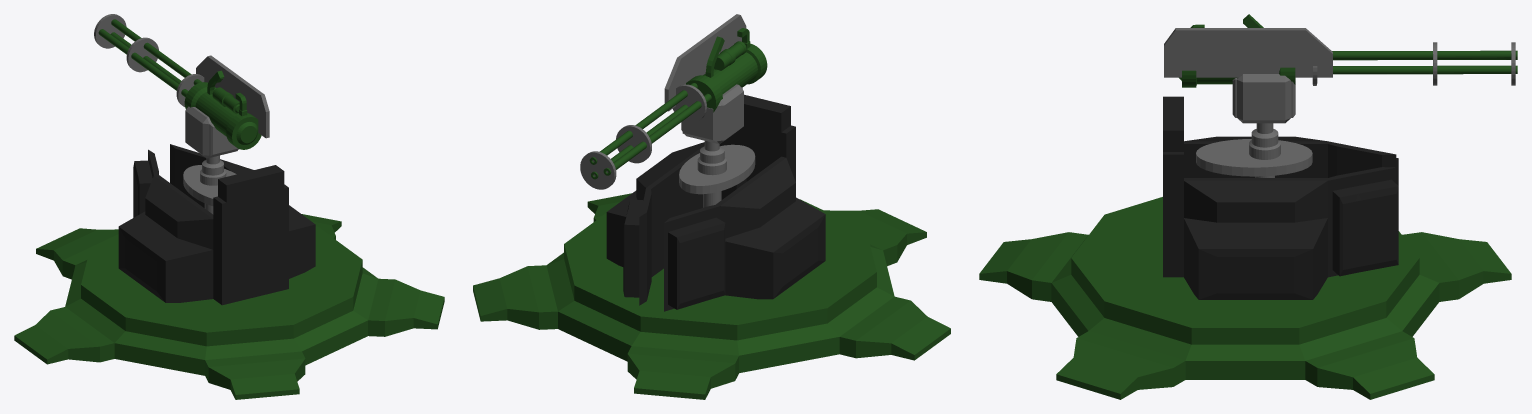
The model's file is Gun1.fbx.
3 renders of one model, left to right at view 1: azimuth 30°, elevation 25°; view 2: azimuth 150°, elevation 25°; view 3: azimuth 270°, elevation 25°, orthographic. The views are drawn at different scales.
Parts seen in each view (by area): view 1: Cylinder, Cube.001, Cylinder.007, Cylinder.001, Cube.002, Cube.003, Cylinder.008; view 2: Cylinder, Cube.001, Cylinder.007, Cube.002, Cylinder.001, Cylinder.008, Cube.003; view 3: Cylinder, Cube.001, Cube.003, Cube.002, Cylinder.007, Cylinder.008, Cylinder.001.
Boxes of the visible parts, <box> form: Cylinder: <box>14,214,444,399</box>; Cube.001: <box>118,144,315,305</box>; Cylinder.007: <box>94,14,204,106</box>; Cylinder.001: <box>184,70,261,149</box>; Cube.002: <box>185,106,239,214</box>; Cube.003: <box>196,55,269,138</box>; Cylinder.008: <box>183,165,236,205</box>; Cylinder: <box>473,193,950,399</box>; Cube.001: <box>606,94,825,311</box>; Cylinder.007: <box>580,83,711,189</box>; Cube.002: <box>681,84,743,207</box>; Cylinder.001: <box>686,28,767,112</box>; Cylinder.008: <box>679,144,755,194</box>; Cube.003: <box>664,14,746,111</box>; Cylinder: <box>979,197,1511,399</box>; Cube.001: <box>1163,96,1398,299</box>; Cube.003: <box>1164,28,1332,77</box>; Cube.002: <box>1232,74,1295,177</box>; Cylinder.007: <box>1312,42,1517,85</box>; Cylinder.008: <box>1196,139,1312,176</box>; Cylinder.001: <box>1179,14,1295,87</box>.
Bounding box in the file's own units: 1.87 × 1.16 × 1.99.
